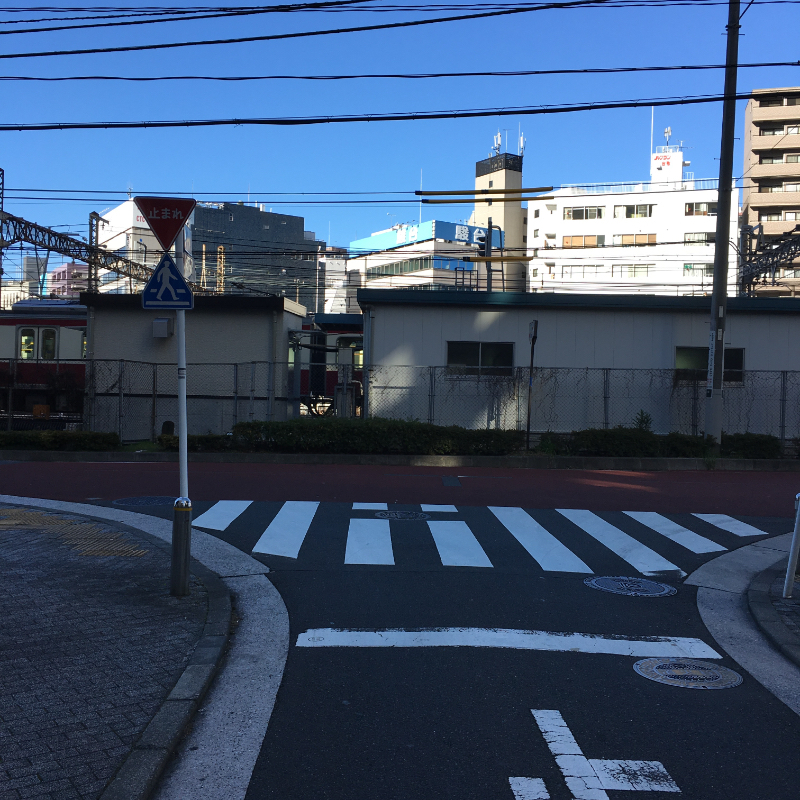STOP: (128, 194, 199, 253)
